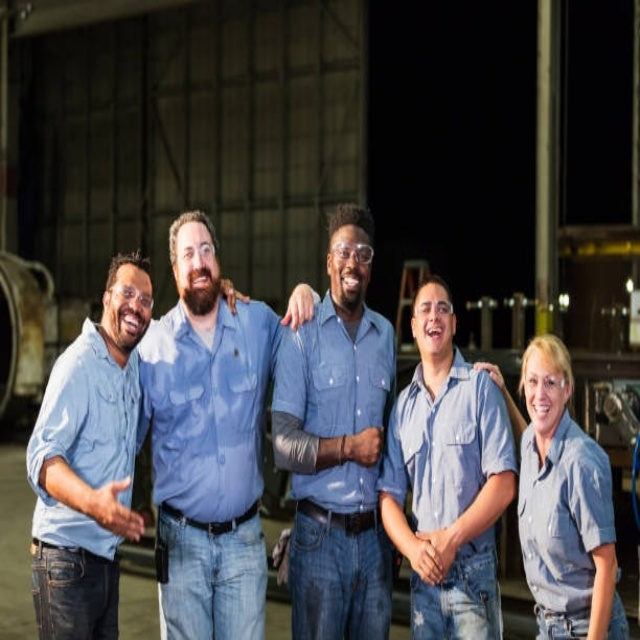Gafas: (175, 235, 219, 265), (109, 285, 154, 310), (332, 242, 374, 265), (524, 373, 567, 391), (415, 301, 454, 317)
Sin_guantes: (93, 467, 146, 544), (276, 278, 319, 329), (411, 528, 447, 586), (344, 425, 387, 469)
Sin_mascara: (340, 270, 362, 300), (529, 398, 555, 422), (187, 268, 209, 296), (424, 322, 448, 347), (119, 311, 138, 339)
